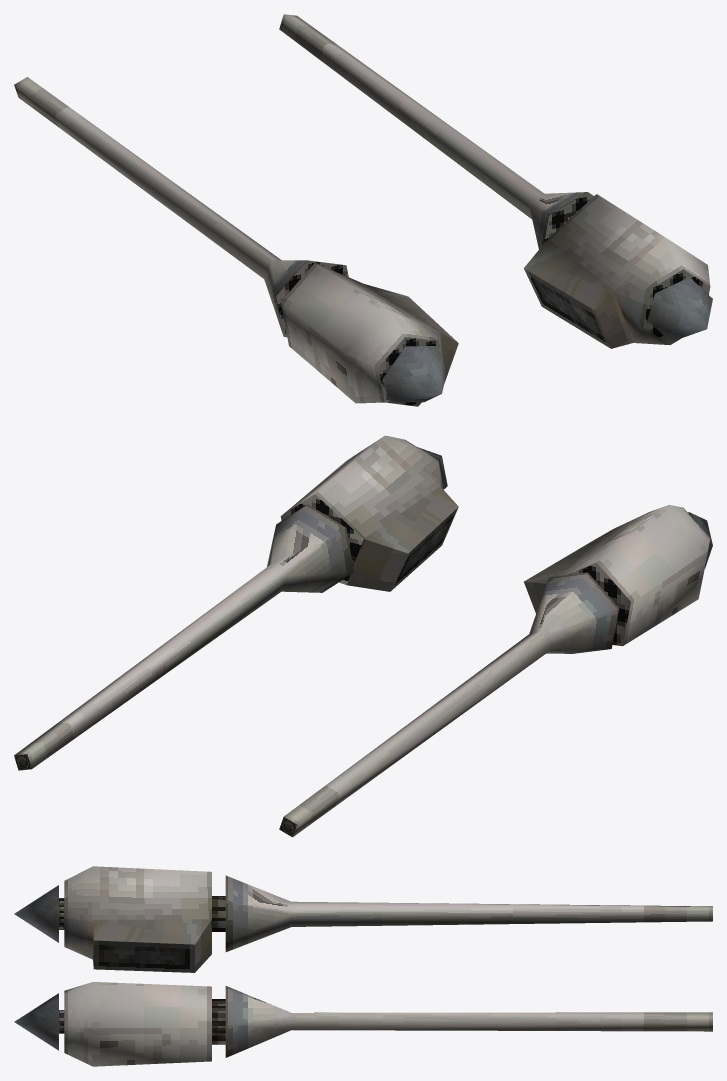
Rendered from hutt_fighter_medium_booster_s02_l2.fbx.
3 renders of one model, top to bottom at view 1: azimuth 30°, elevation 25°; view 2: azimuth 150°, elevation 25°; view 3: azimuth 270°, elevation 25°, orthographic. The views are drawn at different scales.
Visible parts, largest first — view 1: mesh_node; view 2: mesh_node; view 3: mesh_node.
Part boxes in pixels (x1,y1,x2,y2): mesh_node: [14, 14, 712, 406]; mesh_node: [14, 435, 712, 837]; mesh_node: [14, 866, 712, 1066].
Size of the model in its own units: 4.43 by 1.12 by 8.88.
